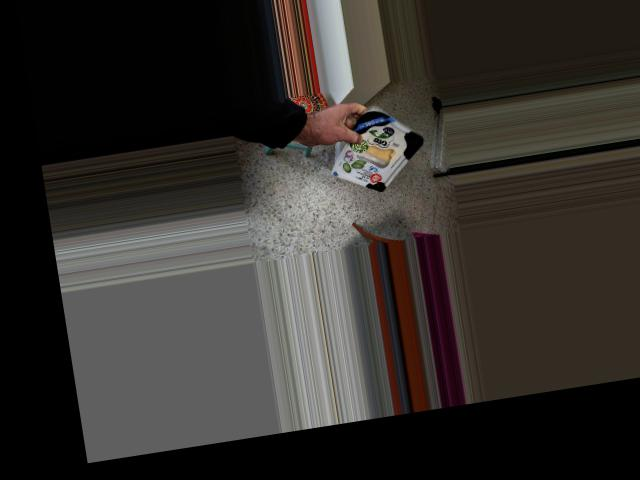cheese: (333, 82, 418, 202)
